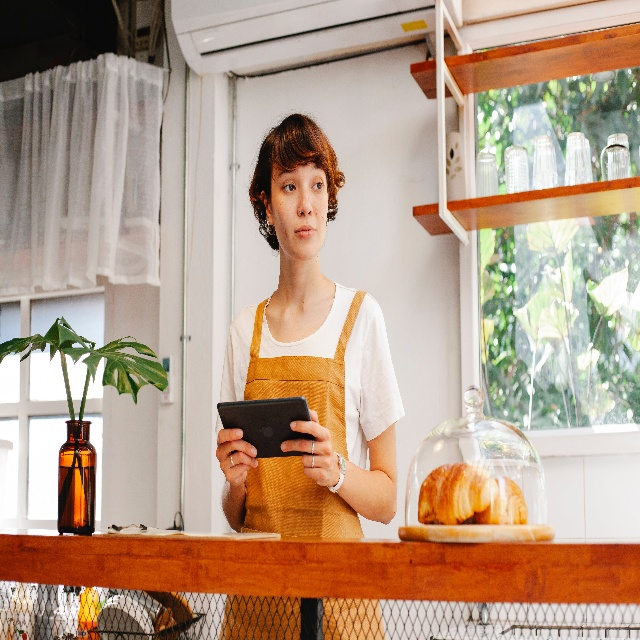Sin_guantes: (280, 409, 336, 486), (216, 427, 259, 487)
